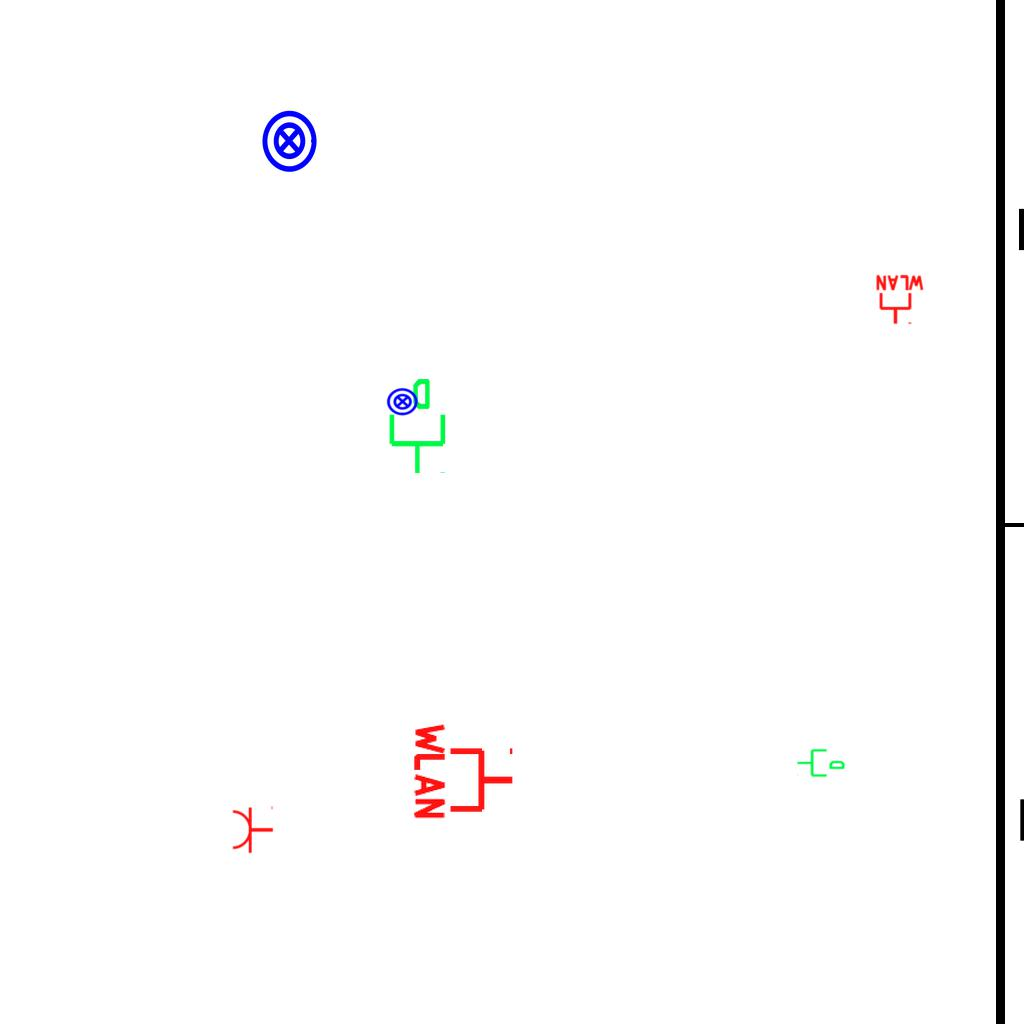Datenanschluss_einfach: (381, 376, 450, 476), (796, 745, 846, 779)
Schukosteckdose_einfach: (231, 804, 274, 854)
Taster_beleuchtet: (256, 108, 322, 174), (386, 385, 419, 418)
WLAN: (412, 719, 517, 823), (874, 274, 926, 326)
